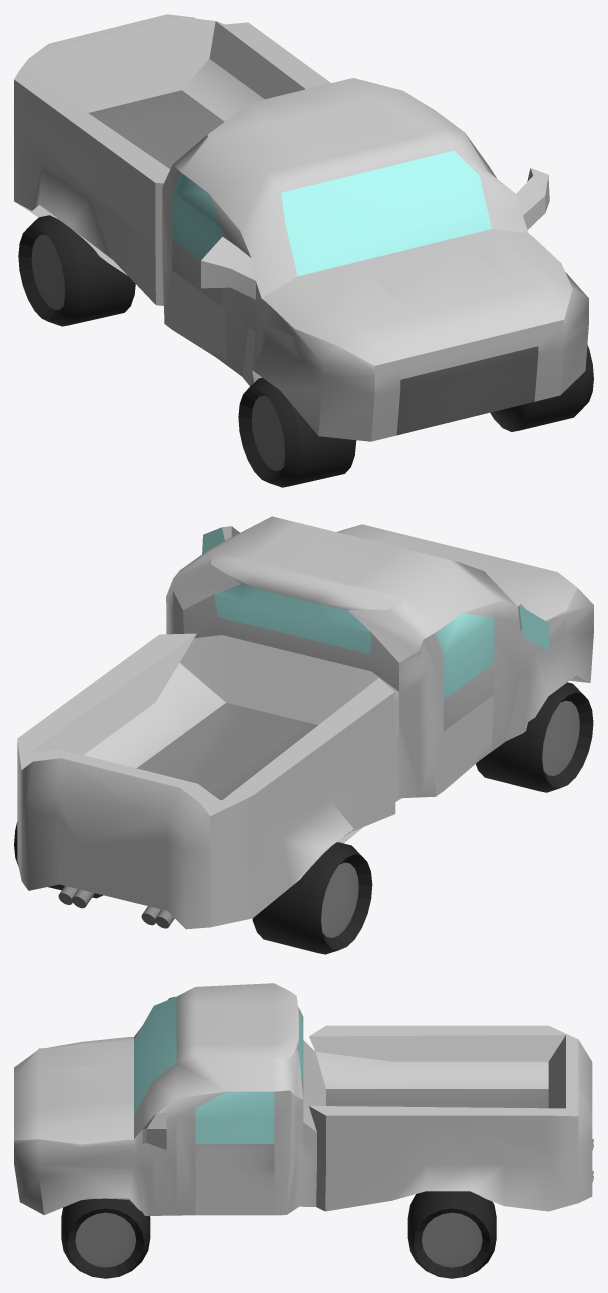
Rendered from Truck 1.fbx.
The picture shows the model from 3 angles, top to bottom: view 1: azimuth 30°, elevation 25°; view 2: azimuth 150°, elevation 25°; view 3: azimuth 270°, elevation 25°; orthographic projection. The views are drawn at different scales.
Parts seen in each view (by area): view 1: polySurface4; view 2: polySurface4; view 3: polySurface4.
Part boxes in pixels (box(x1,y1,x2,y2)): polySurface4: box(14, 14, 593, 487); polySurface4: box(14, 516, 593, 954); polySurface4: box(14, 983, 593, 1278).
Bounding box in the file's own units: 7.64 × 5.65 × 14.04.
